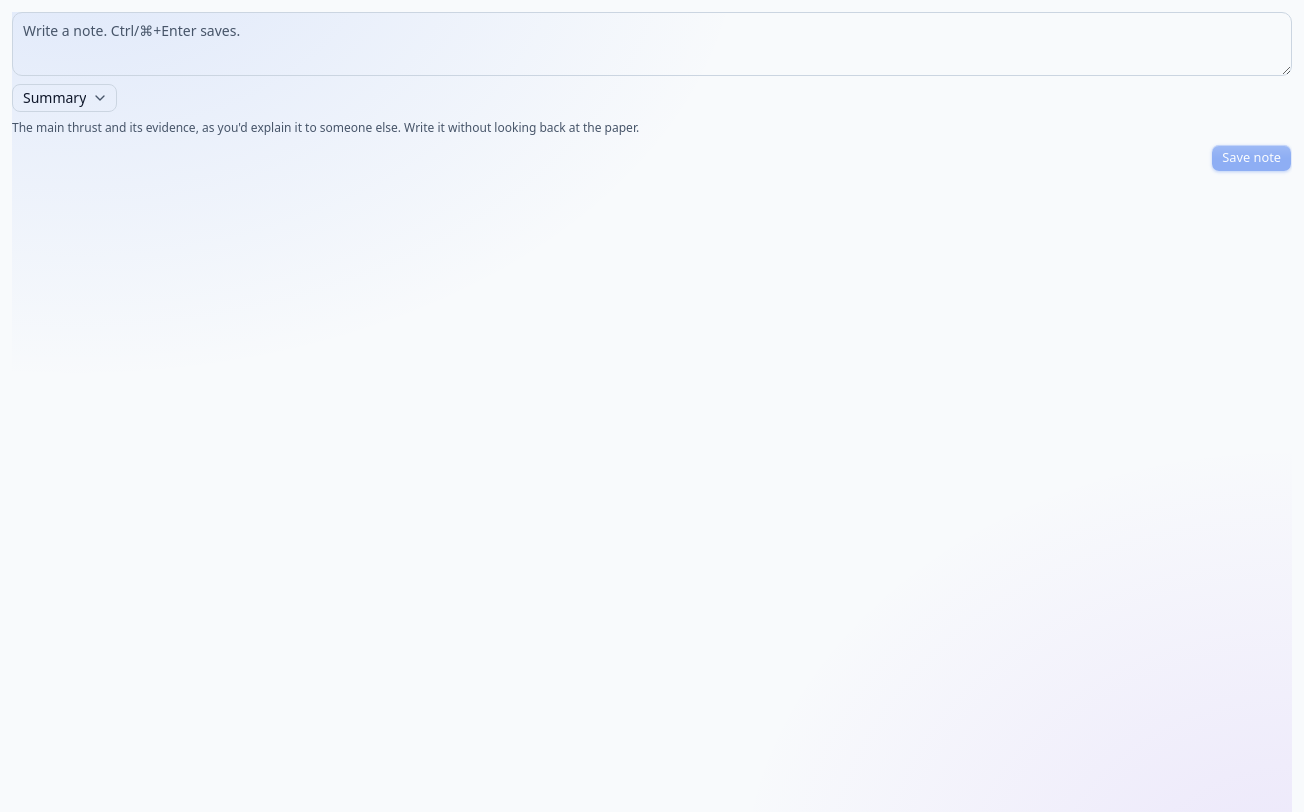
Test: the hint follows the kind
This screenshot has width=1304, height=812.
Expected: the text "The main thrust and its evidence, as you'd explain it to someone else. Write it without looking back at the paper." is shown, [12,119,639,136]
Press Enter in the dropdown named "Kind", box [12,84,117,112]
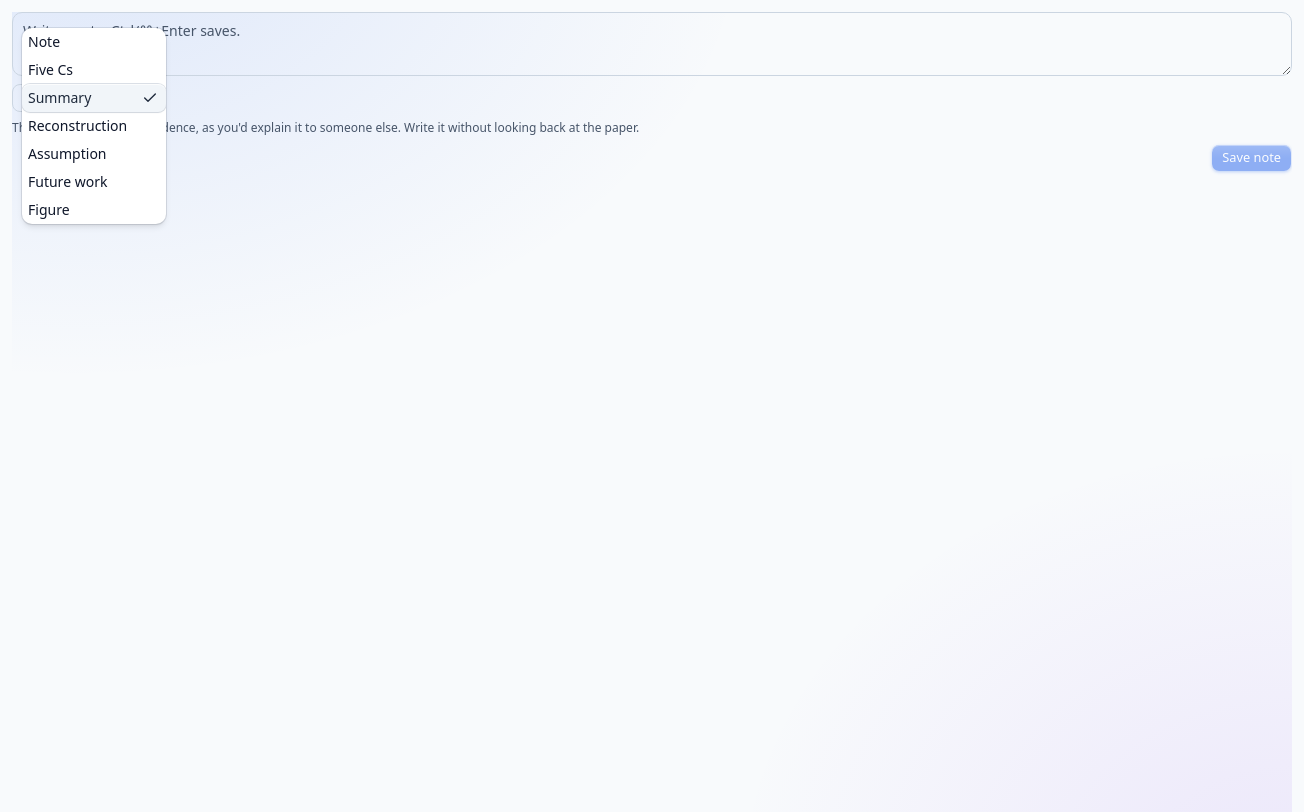
Click the option "Reconstruction" at (78, 126), box [28,116,127,135]
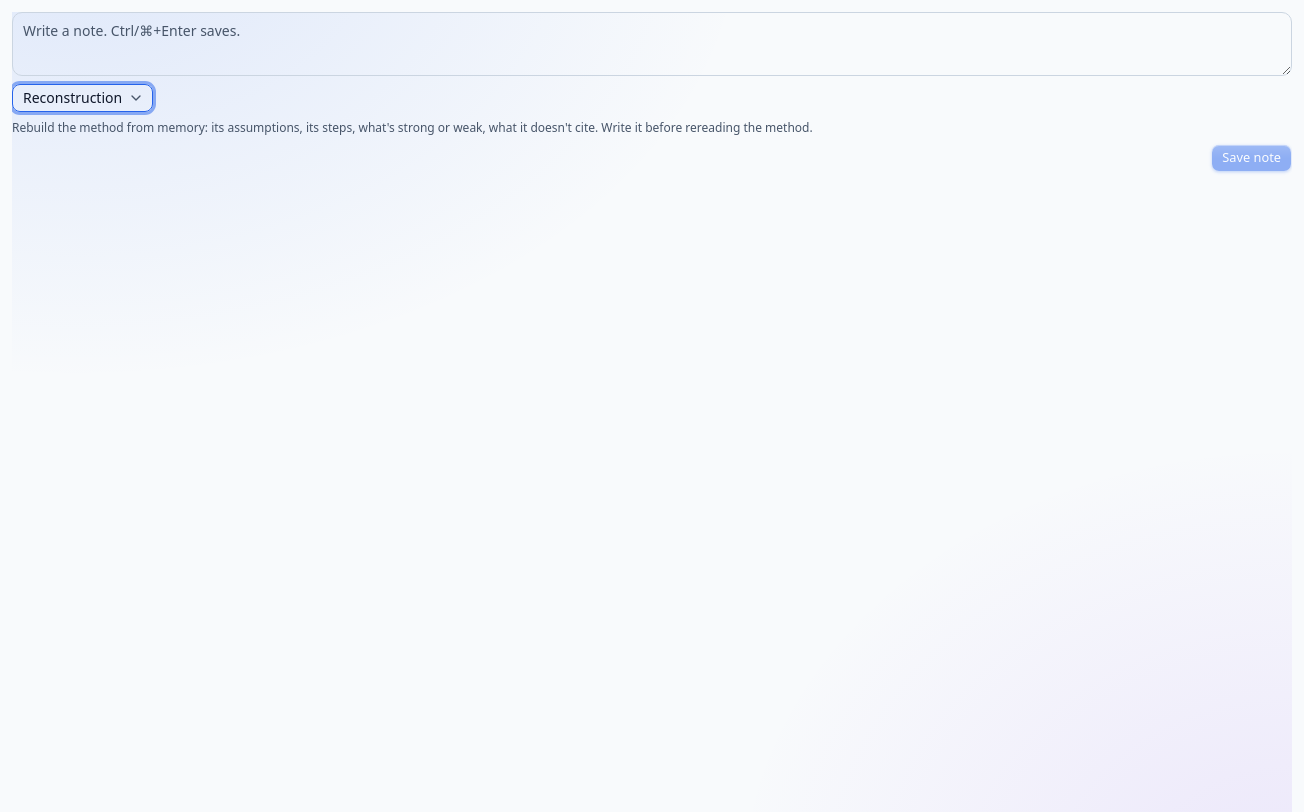
Expected: the text "Rebuild the method from memory: its assumptions, its steps, what's strong or weak, what it doesn't cite. Write it before" is shown, [12,119,813,136]
Expected: the text "The main thrust and its evidence, as you'd explain it to someone else. Write it without looking back at the paper." is gone
